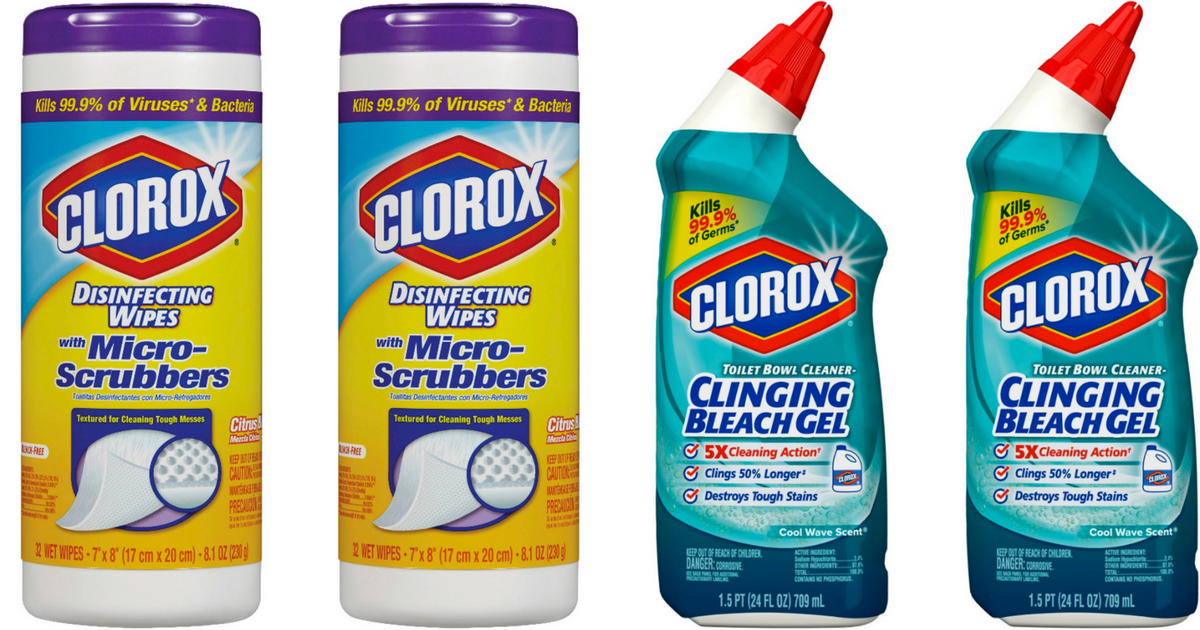Wipes: (9, 1, 283, 630), (329, 2, 592, 630)
